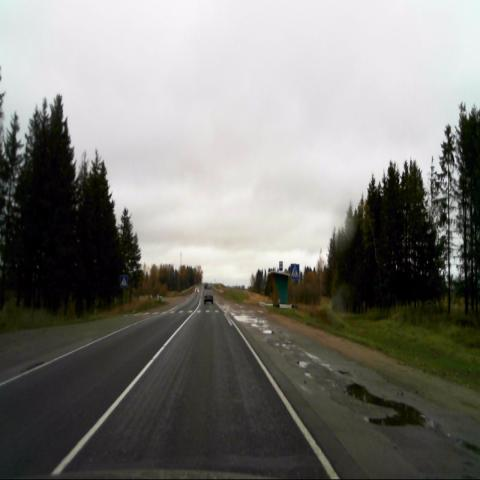5_19_1: (290, 262, 300, 281), (119, 274, 127, 287)
